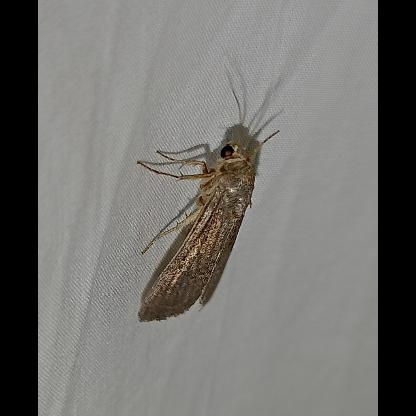Fall Armyworm Moth: (135, 71, 283, 325)
